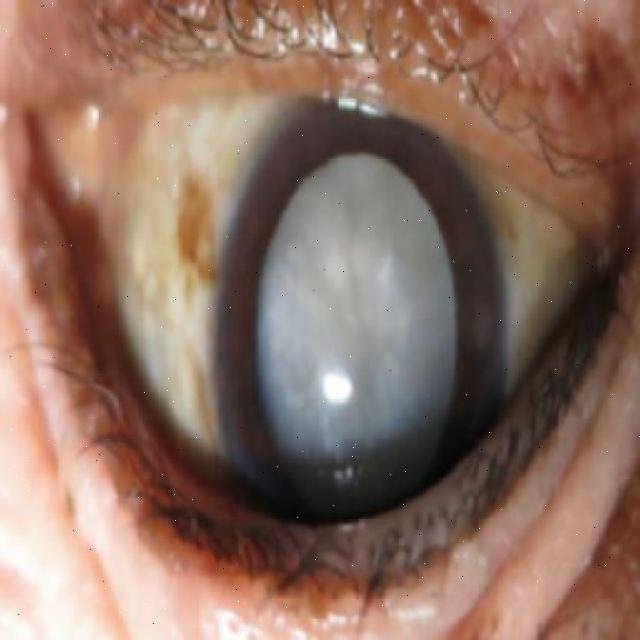Cataract: (211, 73, 513, 607)
